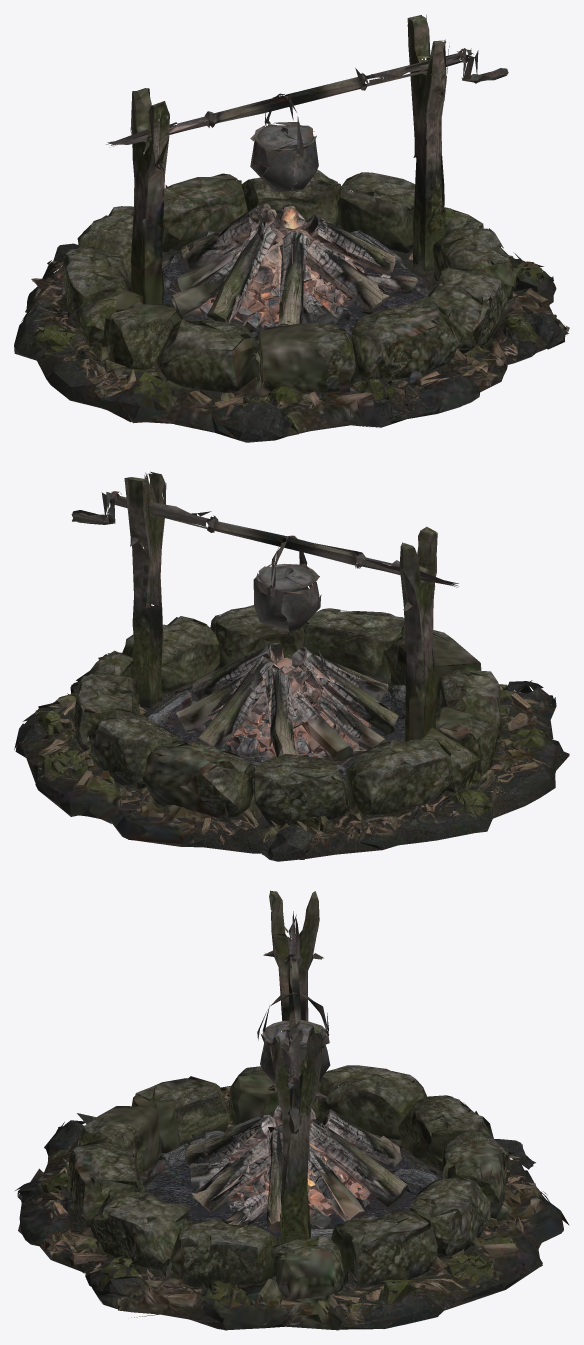
File: bonfire.glb
3 renders of one model, top to bottom at view 1: azimuth 30°, elevation 25°; view 2: azimuth 150°, elevation 25°; view 3: azimuth 270°, elevation 25°, orthographic. The views are drawn at different scales.
Visible parts, largest first — view 1: Mesh_0; view 2: Mesh_0; view 3: Mesh_0.
Boxes of the visible parts, x1,y1,x2,y2 form: Mesh_0: (14, 15, 569, 442); Mesh_0: (14, 471, 569, 861); Mesh_0: (15, 890, 569, 1330).
Bounding box in the file's own units: 3 × 1.55 × 2.97.
1 material, 1 textured.
